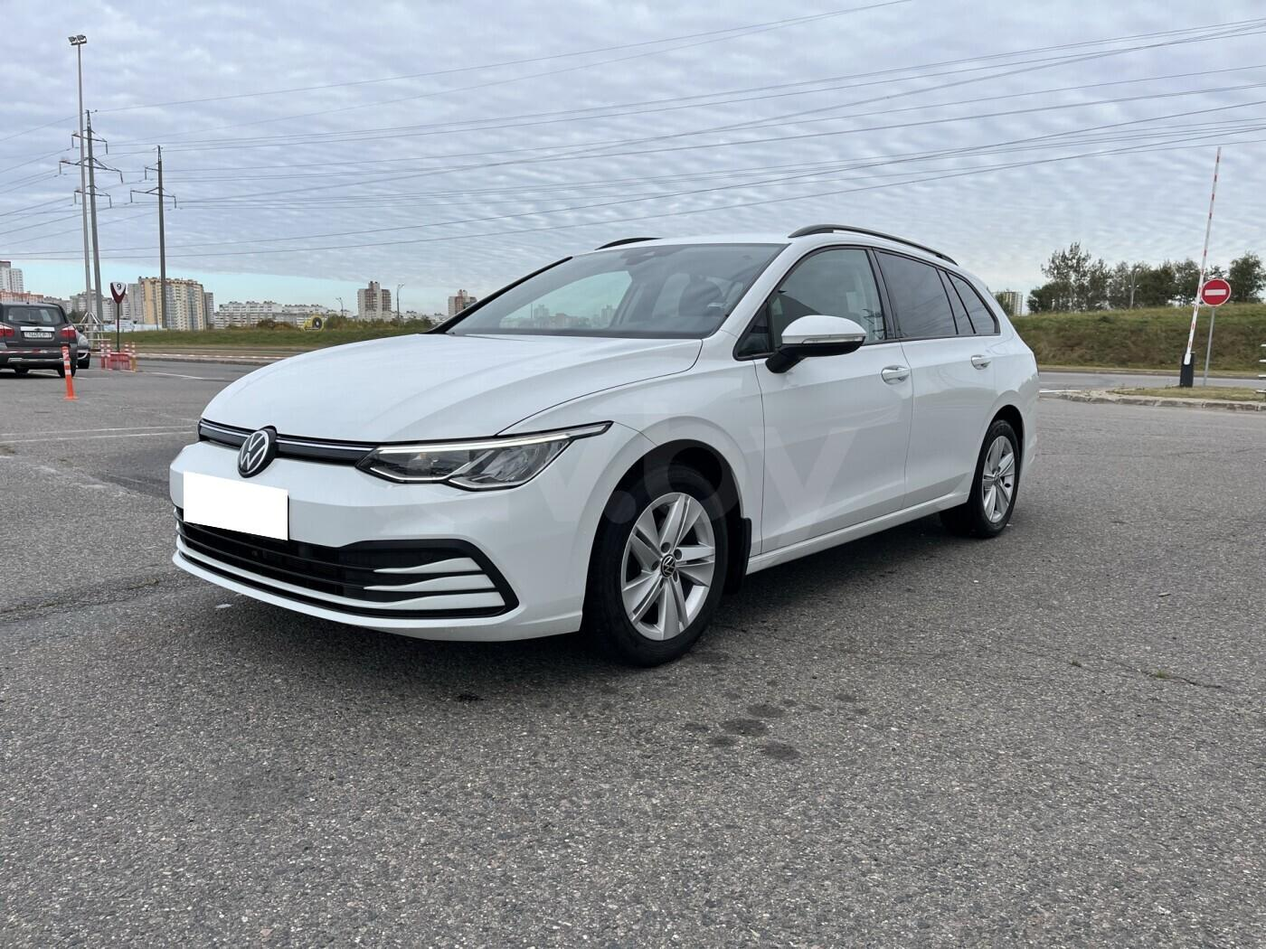Golf_2019: (161, 222, 1044, 664)
